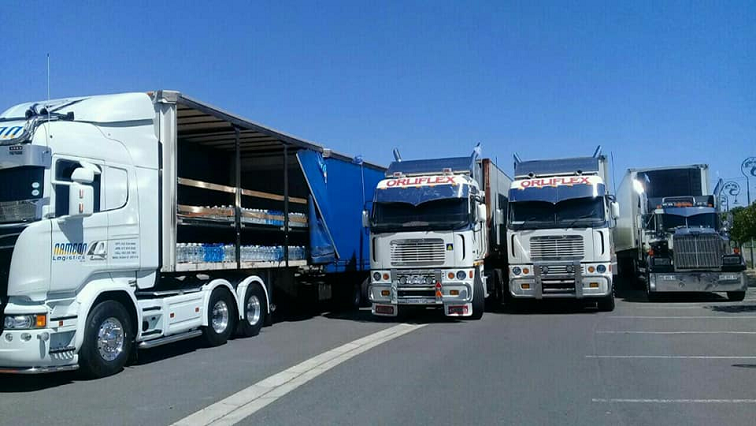Truck: (1, 89, 269, 375), (361, 150, 491, 323), (504, 151, 622, 314), (620, 167, 748, 300)
